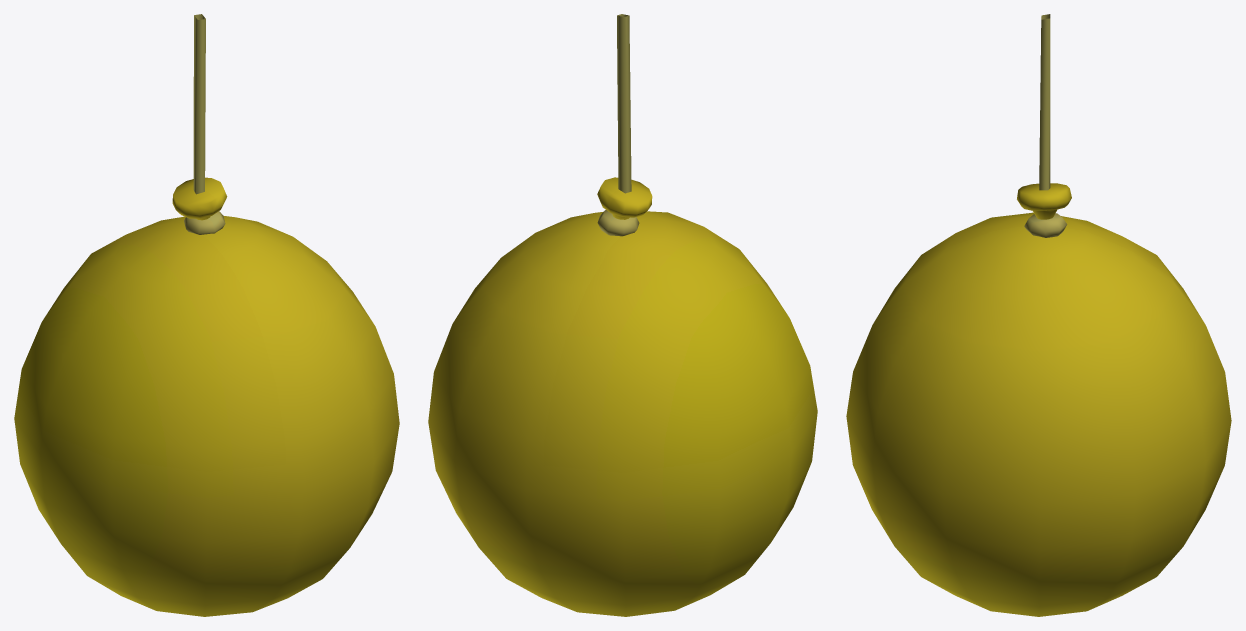
Rendered from balloon.glb.
3 views of the same model, side by side, from view 1: azimuth 30°, elevation 25°; view 2: azimuth 150°, elevation 25°; view 3: azimuth 270°, elevation 25° (orthographic).
Parts seen in each view (by area): view 1: Balloon00_node4; view 2: Balloon00_node4; view 3: Balloon00_node4.
Boxes of the visible parts, x1=… form: Balloon00_node4: x1=14, y1=14, x2=399, y2=616; Balloon00_node4: x1=428, y1=14, x2=817, y2=616; Balloon00_node4: x1=846, y1=14, x2=1231, y2=616.
Size of the model in its own units: 0.536 by 0.8937 by 0.5362.
1 material, 1 textured.
